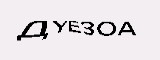А: (118, 20, 138, 38)
Д: (15, 19, 52, 39)
Е: (67, 18, 81, 33)
З: (79, 18, 97, 37)
О: (96, 19, 117, 38)
Ү: (52, 18, 69, 34)
